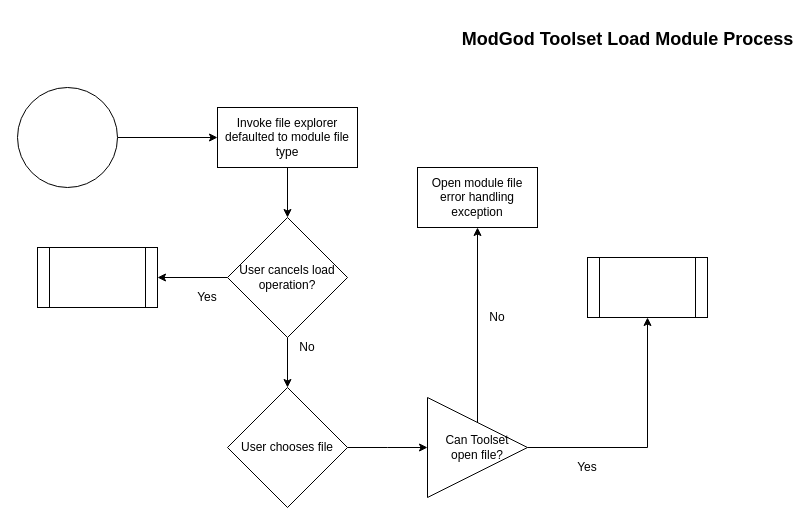
This 811x525 diagram has some shape labels left out. Each missing label, with the centre of its shape:
"Load module started" belongs at (x=67, y=137).
"Start Toolset with loaded module" belongs at (x=647, y=287).
"Start Toolset with new module" belongs at (x=97, y=277).
